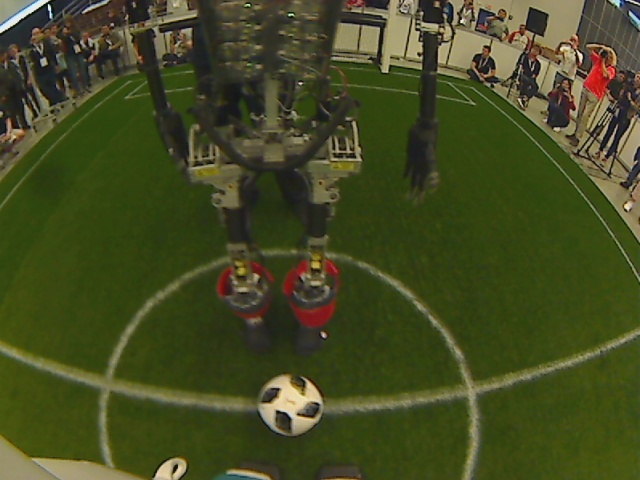ball: (256, 369, 325, 438)
